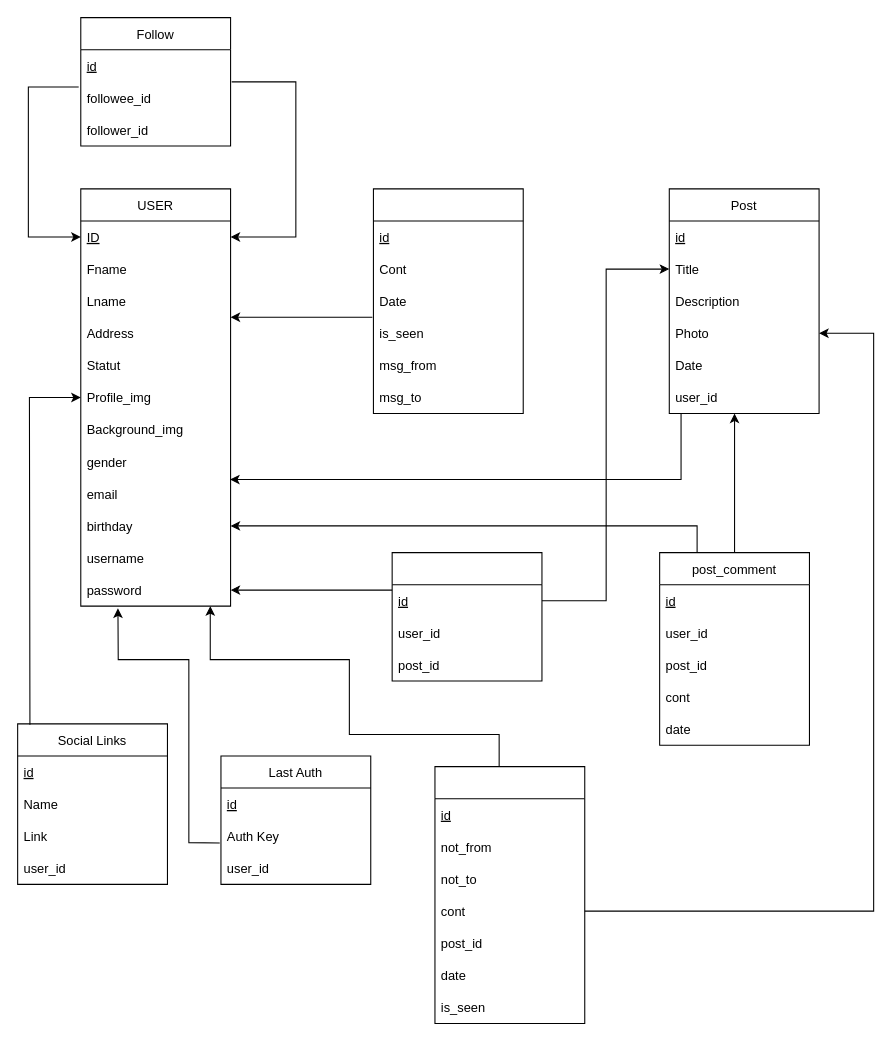
The diagram is 891 pixels wide and 1041 high, and some of its shapes have lost their labels. Each missing label, with the box of its shape:
Message: (372, 188, 523, 414)
notification: (434, 766, 585, 1023)
post_like: (391, 552, 542, 681)
